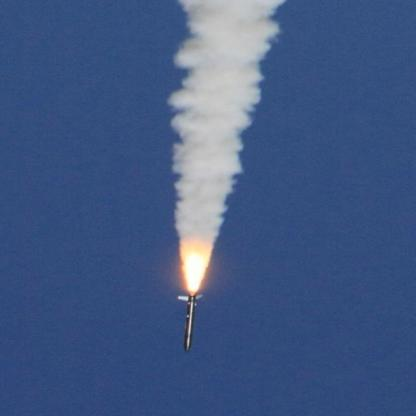MIL_TBM: (184, 294, 197, 354)
